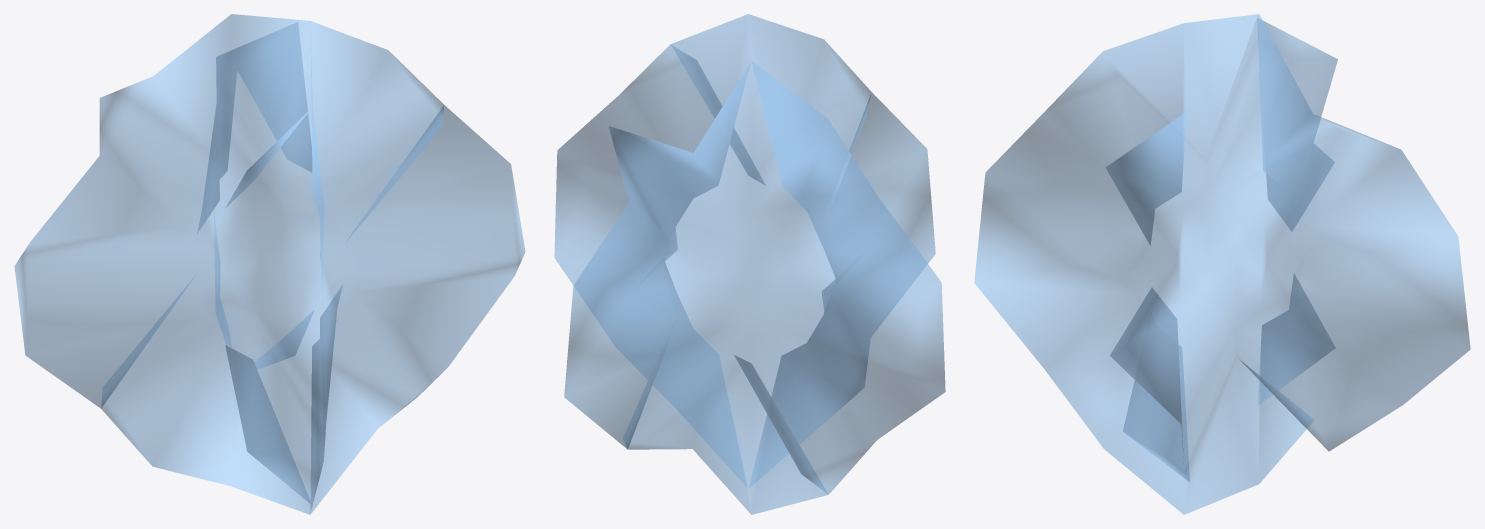
Rendered from ssstarburst_shield.gltf.
3 renders of one model, left to right at view 1: azimuth 30°, elevation 25°; view 2: azimuth 150°, elevation 25°; view 3: azimuth 270°, elevation 25°, orthographic. The views are drawn at different scales.
Parts seen in each view (by area): view 1: ssstarburst.shield; view 2: ssstarburst.shield; view 3: ssstarburst.shield.
Part boxes in pixels (bbox=[...]): ssstarburst.shield: bbox=[14, 14, 525, 514]; ssstarburst.shield: bbox=[554, 14, 945, 514]; ssstarburst.shield: bbox=[974, 14, 1470, 514].
Bounding box in the file's own units: 20.72 × 21.83 × 19.97.
